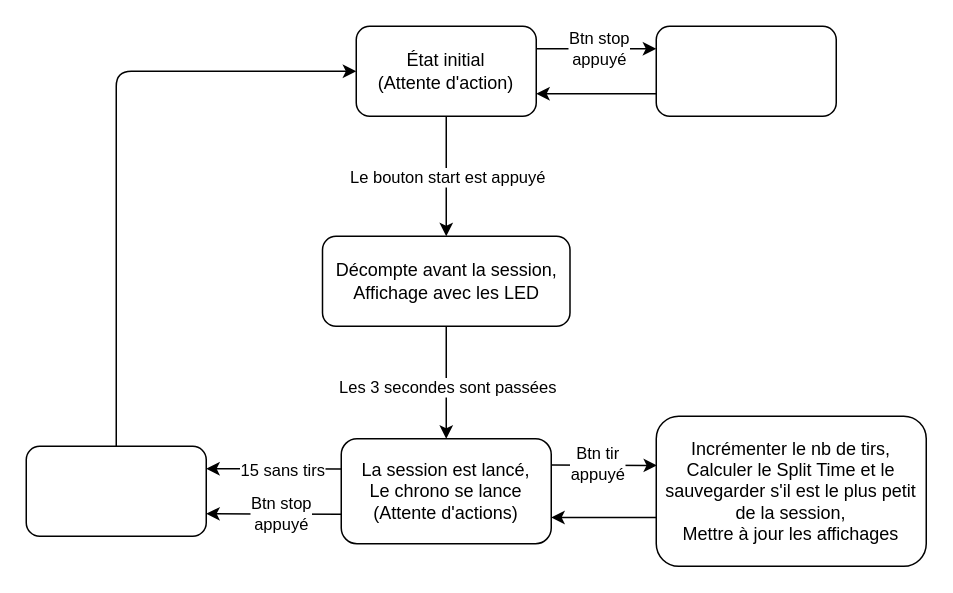
Image size: 953x593. Some labels were removed from this diagram. Each missing label, with the box of its shape:
On arrête la session et on affiche les statistiques: (25, 445, 206, 536)
Réinitialiser les statistiques: (655, 25, 836, 116)
